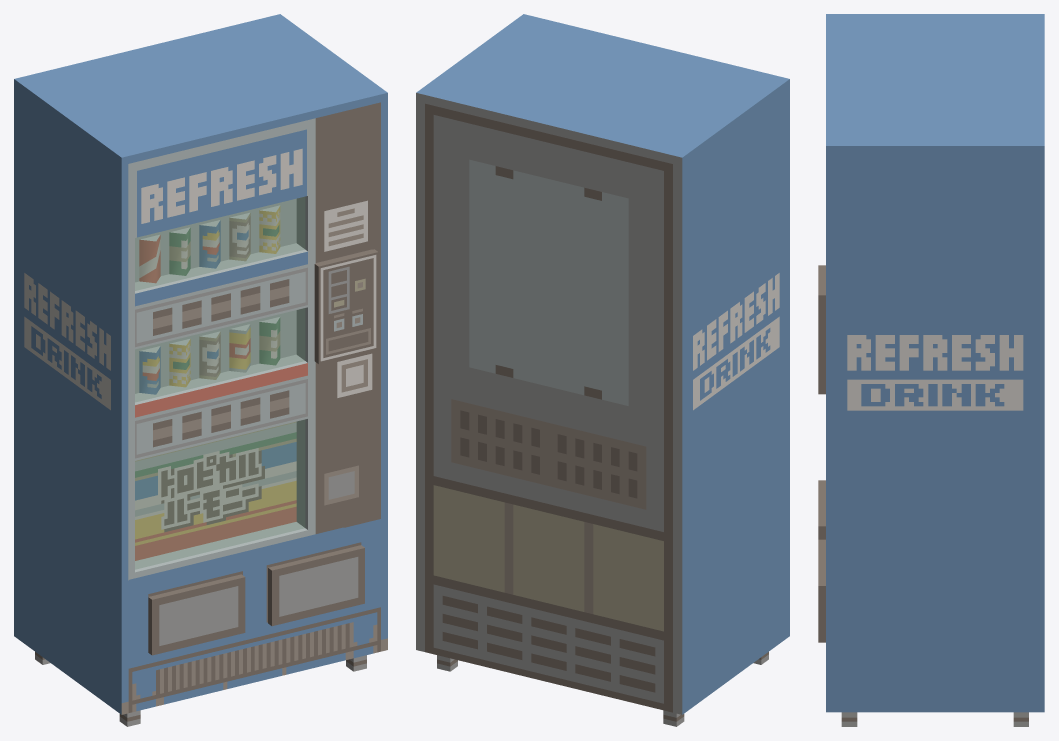
File: 0285_Vending_Machine.glb
3 views of the same model, side by side, from view 1: azimuth 30°, elevation 25°; view 2: azimuth 150°, elevation 25°; view 3: azimuth 270°, elevation 25° (orthographic).
Visible parts, largest first — view 1: part_0; view 2: part_0; view 3: part_0.
Boxes of the visible parts, <box> form: part_0: <box>14,14,387,726</box>; part_0: <box>416,14,789,726</box>; part_0: <box>818,14,1044,726</box>.
Bounding box in the file's own units: 1 × 2.08 × 0.725.
Materials: 1 (1 with a texture image).
